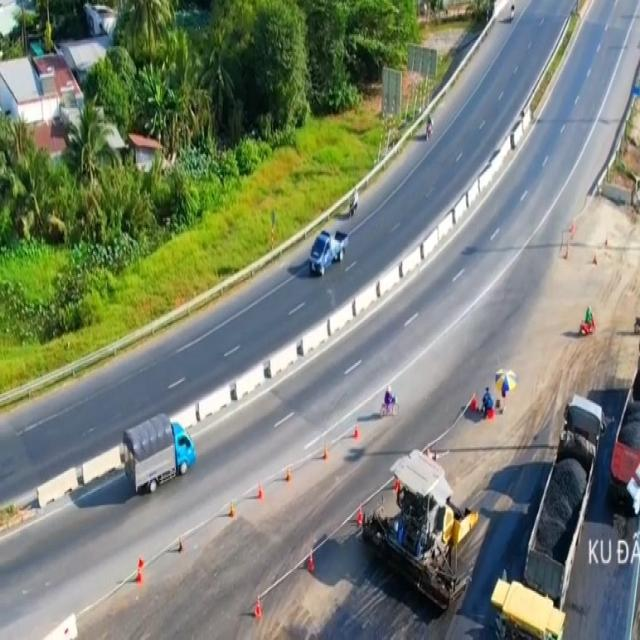truck: (122, 416, 196, 492), (307, 228, 349, 282), (579, 308, 595, 336)
